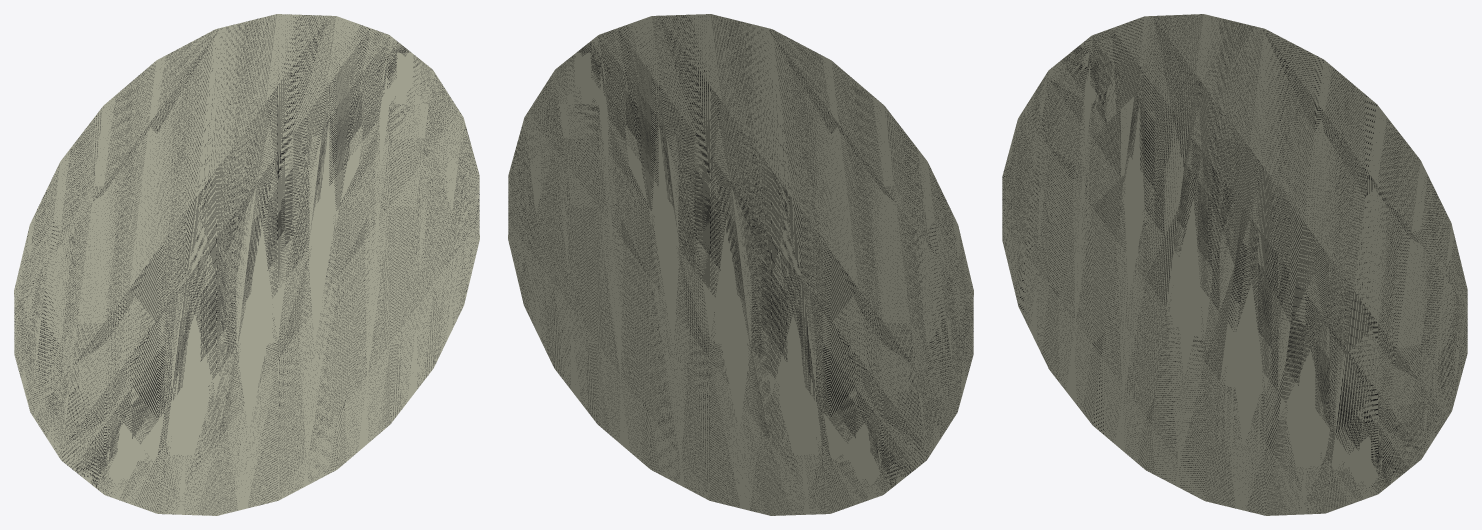
Rendered from original-102.obj.
3 renders of one model, left to right at view 1: azimuth 30°, elevation 25°; view 2: azimuth 150°, elevation 25°; view 3: azimuth 330°, elevation 25°, orthographic.
Parts seen in each view (by area): view 1: mesh52/mesh52-geometry/material_18#mesh52-geometry; view 2: mesh52/mesh52-geometry/material_18#mesh52-geometry; view 3: mesh52/mesh52-geometry/material_18#mesh52-geometry.
Part boxes in pixels (x1,y1,x2,y2): mesh52/mesh52-geometry/material_18#mesh52-geometry: [14, 14, 479, 515]; mesh52/mesh52-geometry/material_18#mesh52-geometry: [508, 14, 973, 515]; mesh52/mesh52-geometry/material_18#mesh52-geometry: [1002, 14, 1467, 515].
Size of the model in its own units: 0.0645 by 0.0645 by 0.
